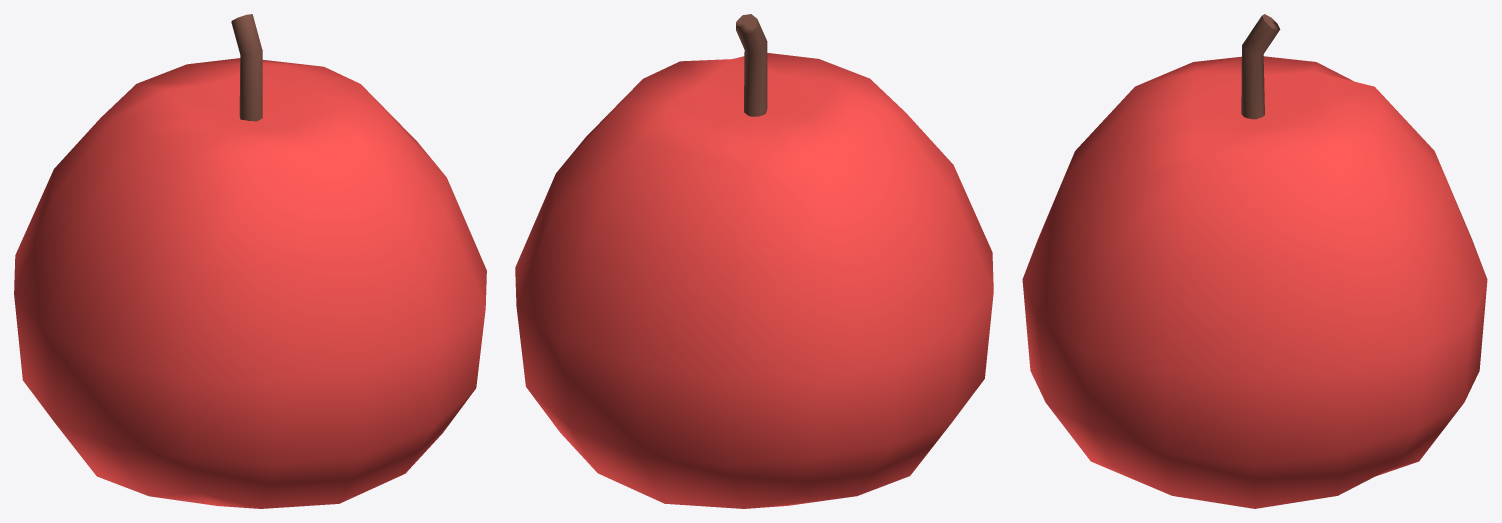
File: Farm_1_Apple_2.glb
The picture shows the model from 3 angles, left to right: view 1: azimuth 30°, elevation 25°; view 2: azimuth 150°, elevation 25°; view 3: azimuth 270°, elevation 25°; orthographic projection.
Parts seen in each view (by area): view 1: Farm_1_Apple_2; view 2: Farm_1_Apple_2; view 3: Farm_1_Apple_2.
Part boxes in pixels (<box>): Farm_1_Apple_2: <box>14,14,486,508</box>; Farm_1_Apple_2: <box>515,14,993,508</box>; Farm_1_Apple_2: <box>1022,14,1487,508</box>.
Size of the model in its own units: 0.2827 by 0.2921 by 0.2827.
1 material, 1 textured.
